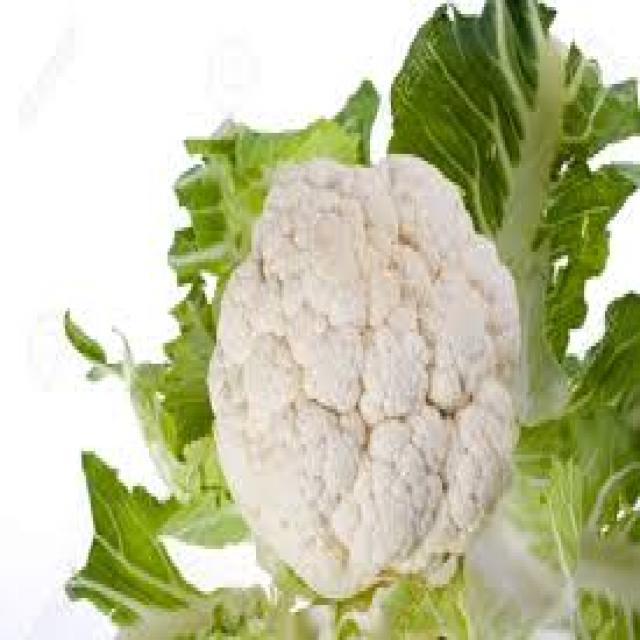organic waste: (63, 0, 638, 637)
